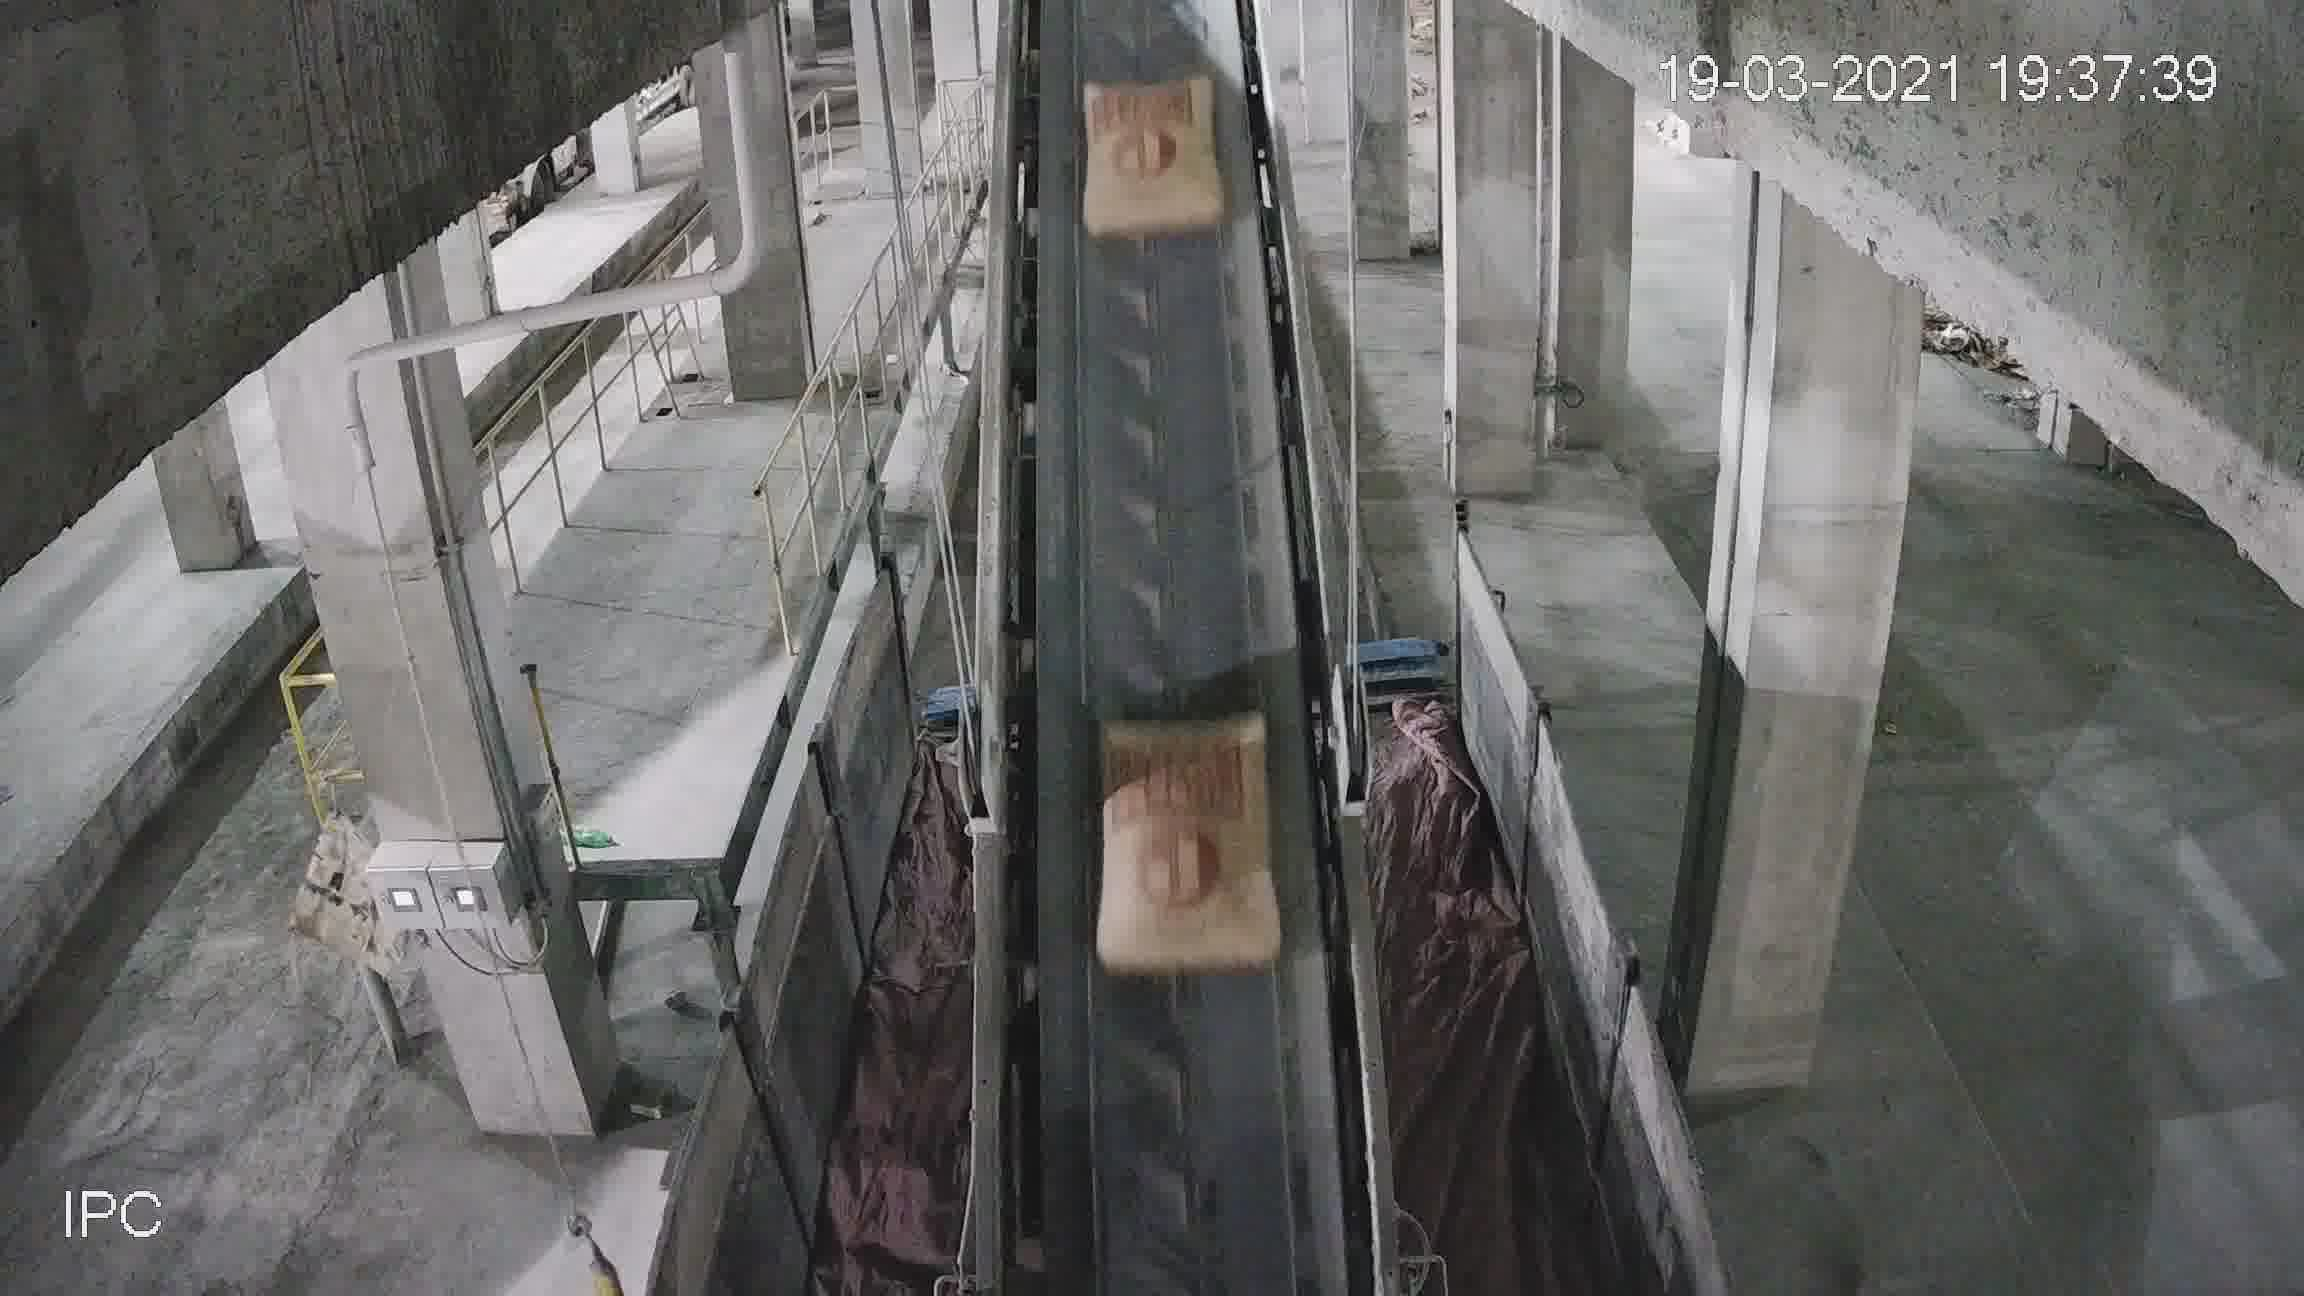bag: (1097, 725, 1282, 981), (1086, 70, 1218, 229)
belt: (989, 130, 1355, 1176)
